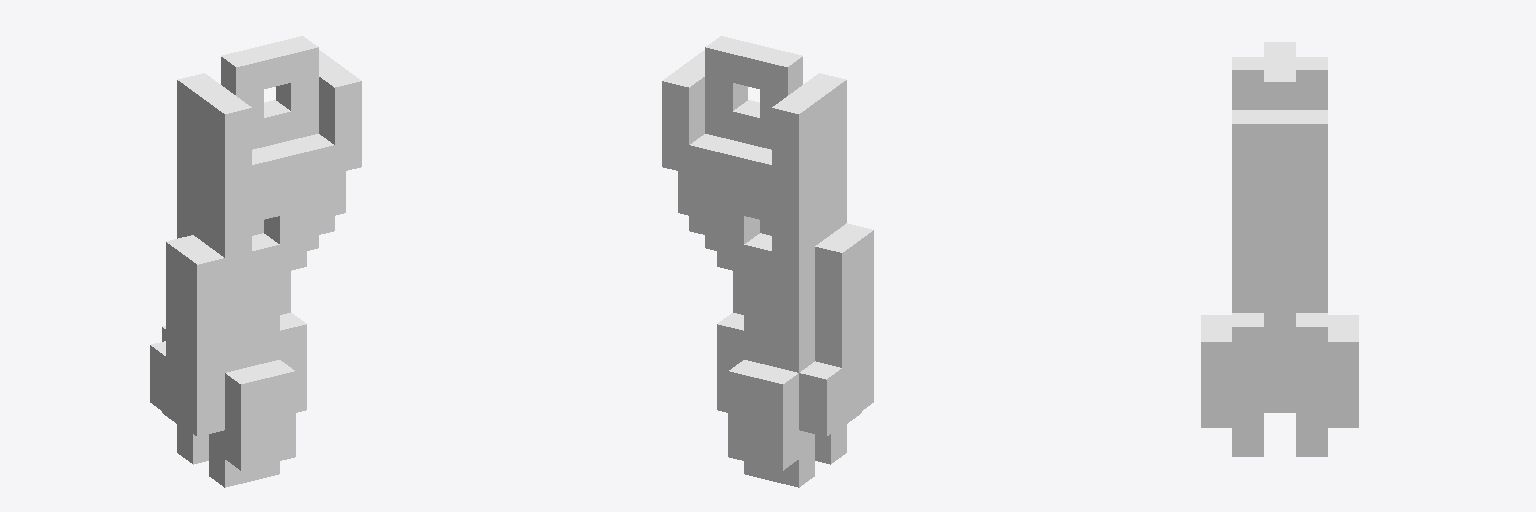
The model's file is Leg-50.obj.
3 views of the same model, side by side, from view 1: azimuth 30°, elevation 25°; view 2: azimuth 150°, elevation 25°; view 3: azimuth 270°, elevation 25° (orthographic).
Visible parts, largest first — view 1: object 1; view 2: object 1; view 3: object 1.
Boxes of the visible parts, x1,y1,x2,y2 form: object 1: [150, 36, 361, 487]; object 1: [662, 36, 873, 487]; object 1: [1201, 42, 1358, 456].
Size of the model in its own units: 0.6 by 1.4 by 0.5.